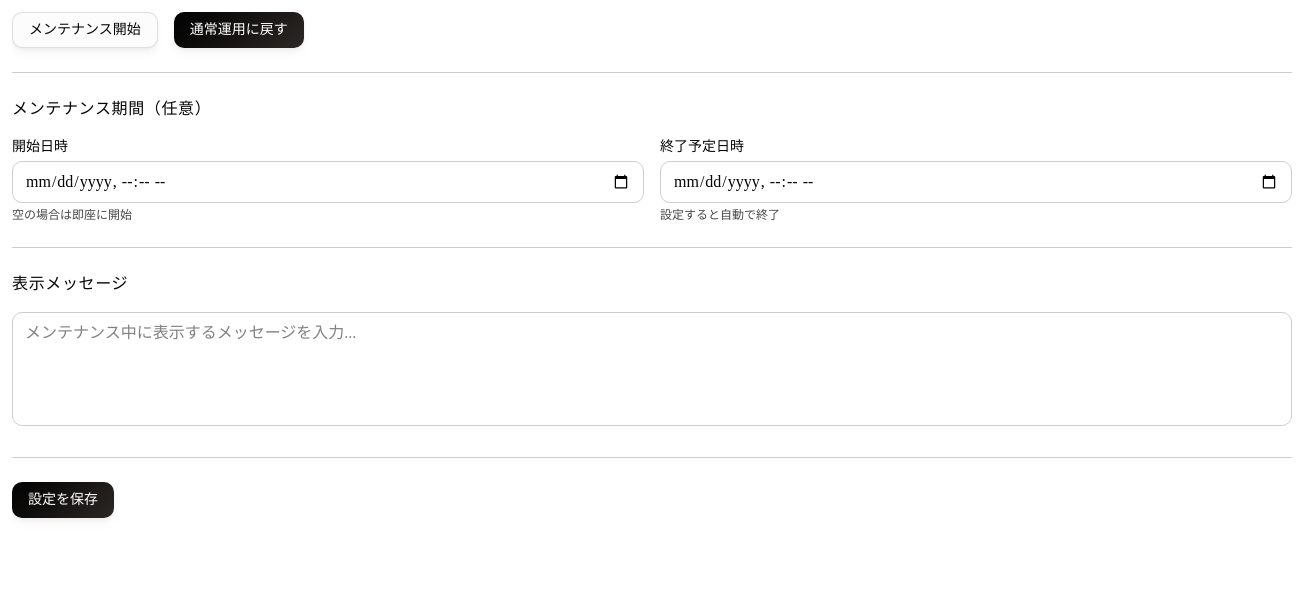
MaintenanceForm › フォーム送信成功時に成功メッセージが表示される
The image size is (1304, 611).
Click the button "設定を保存": (63, 500) [12,482,114,518]
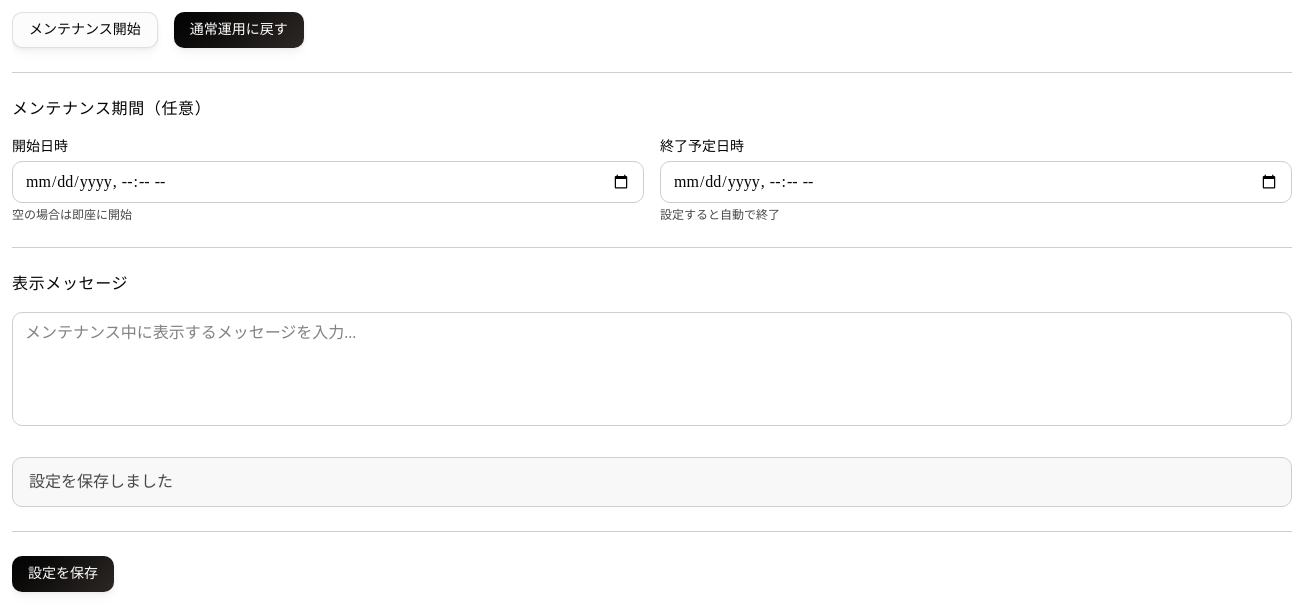
Now the text "設定を保存しました" is shown, box [12,457,1292,507]
